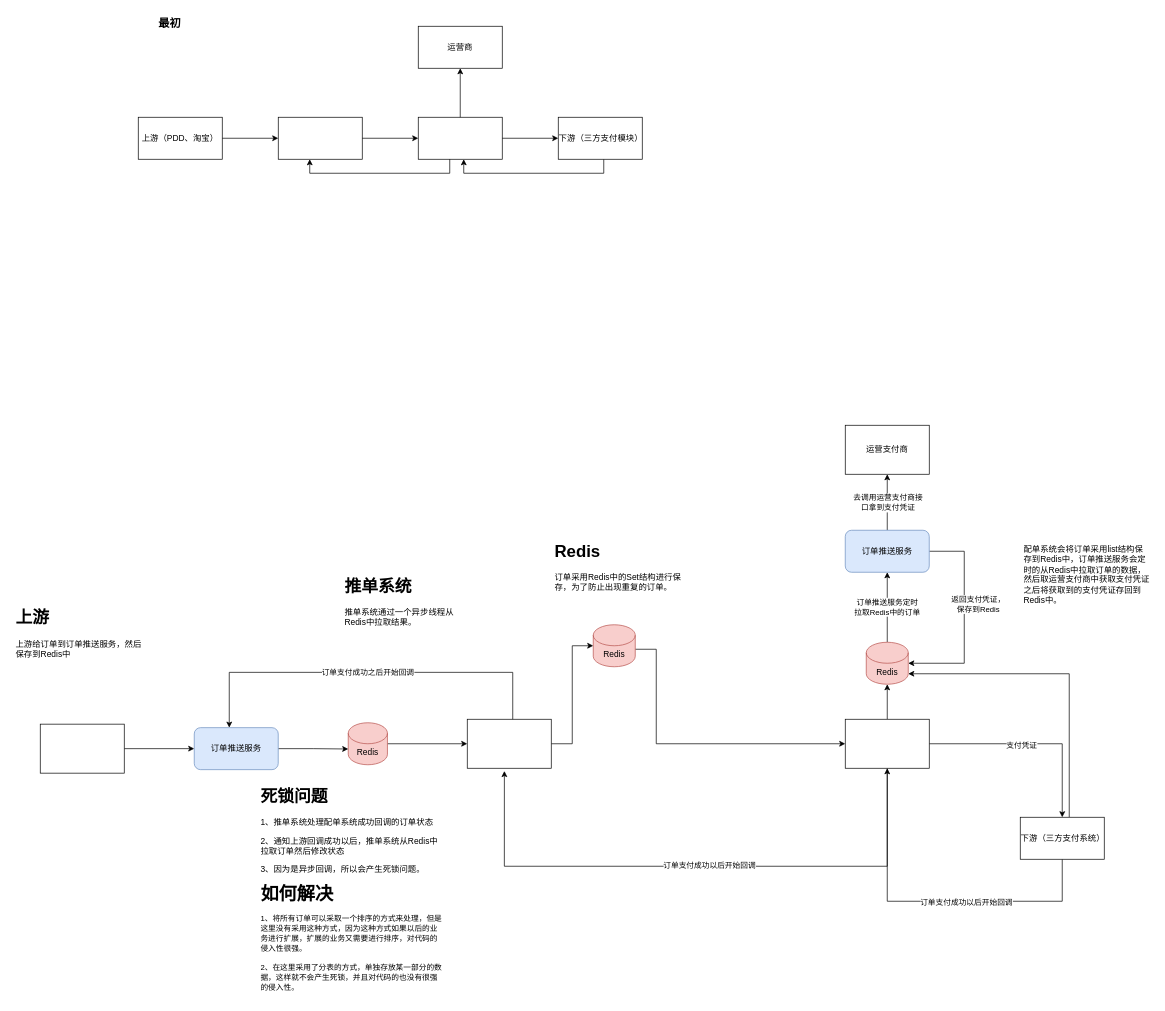
Image size: 1165x1011. Some labels were removed from this diagram. Each missing label, with the box of its shape:
上游（pdd，淘宝、天猫）: (40, 723, 124, 773)
推单服务: (278, 117, 362, 159)
推单系统（收到上游派过来的订单然后落库）: (467, 719, 551, 768)
配单服务: (418, 117, 502, 159)
配单系统: (845, 719, 929, 768)
